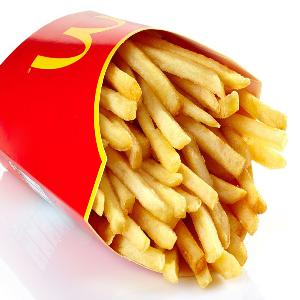fries: (72, 32, 300, 287)
